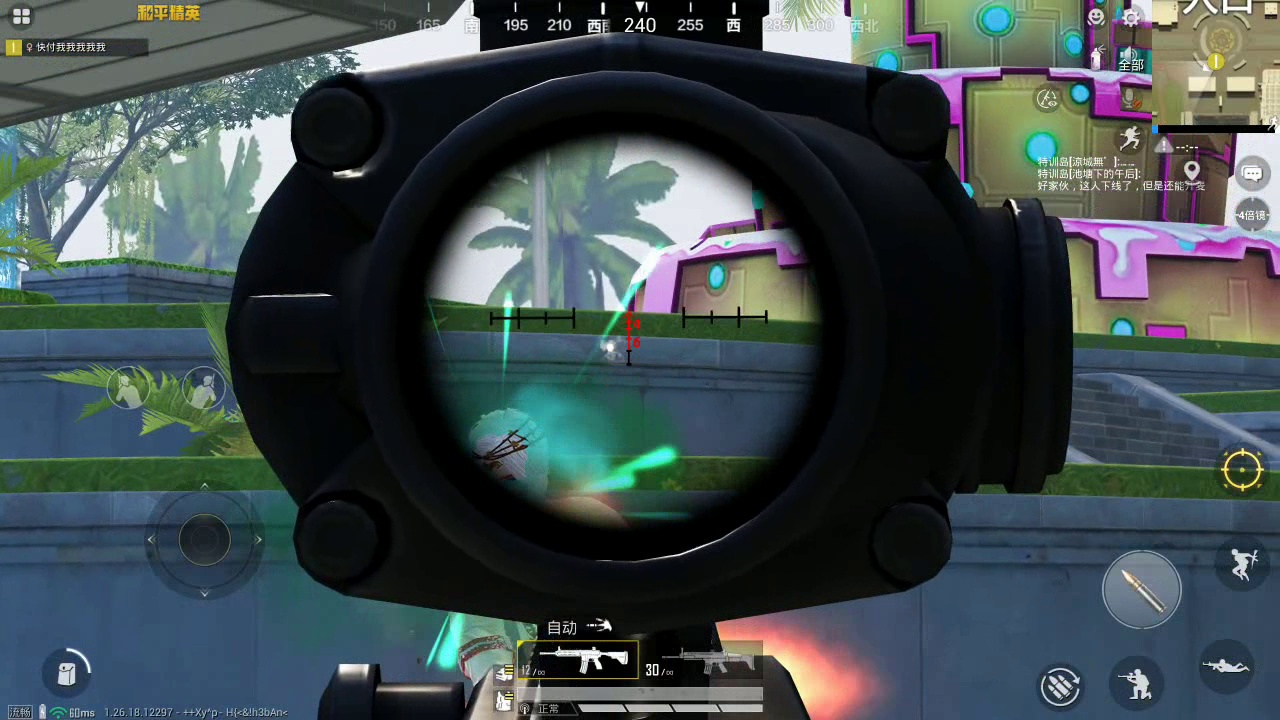enemy: (458, 405, 636, 541)
